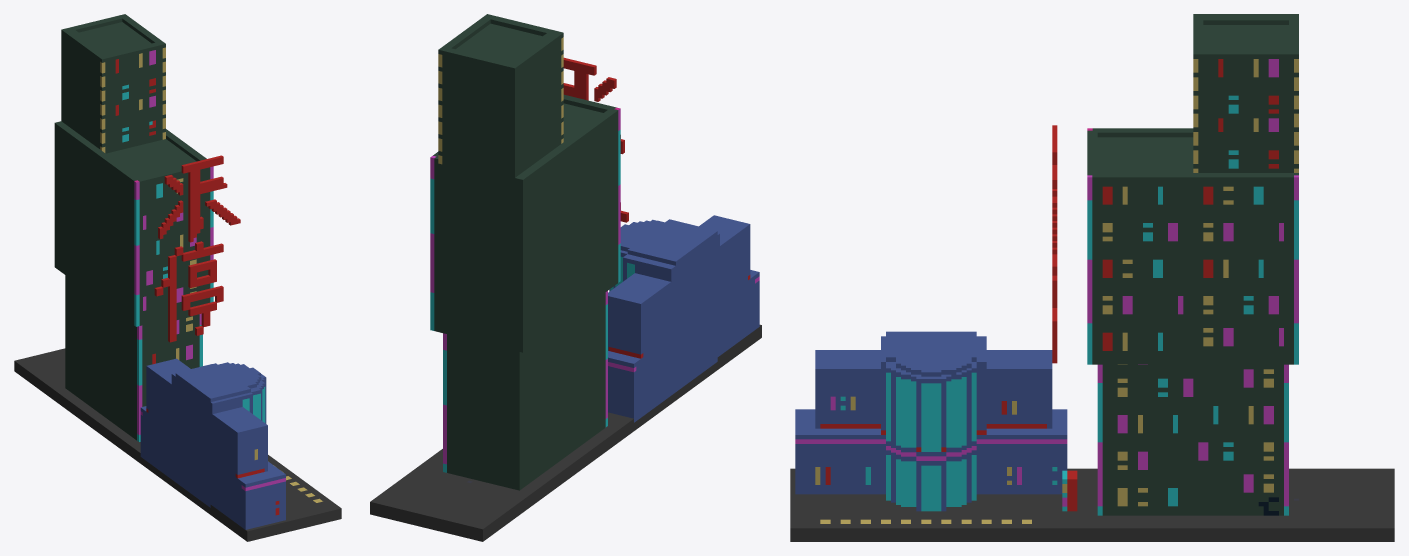
File: SM_Environment_Street3.fbx
The picture shows the model from 3 angles, left to right: view 1: azimuth 30°, elevation 25°; view 2: azimuth 150°, elevation 25°; view 3: azimuth 270°, elevation 25°; orthographic projection. The views are drawn at different scales.
Parts seen in each view (by area): view 1: SM_Environment_Street3; view 2: SM_Environment_Street3; view 3: SM_Environment_Street3.
Boxes of the visible parts, <box> form: SM_Environment_Street3: <box>14,14,341,541</box>; SM_Environment_Street3: <box>370,14,761,541</box>; SM_Environment_Street3: <box>790,14,1394,541</box>.
Size of the model in its own units: 560 by 2080 by 2400.
5 materials, 1 textured.
